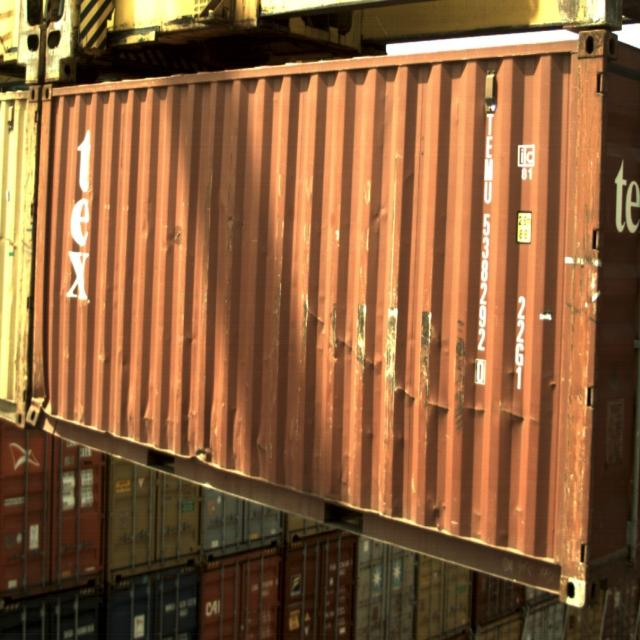dent: (422, 385, 455, 427), (498, 401, 530, 432), (393, 377, 420, 410), (466, 395, 487, 437), (332, 326, 355, 362), (362, 351, 391, 376), (306, 300, 327, 322)
